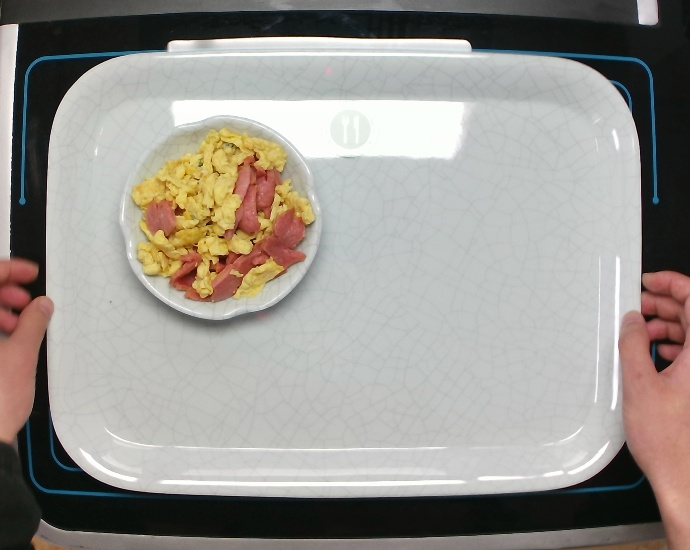JYsf-Ao_Yuan_Wan: (114, 110, 332, 329)
